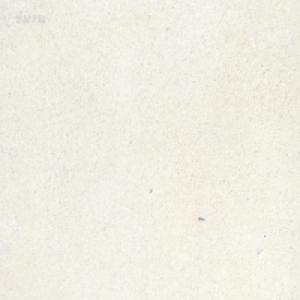Nail: (198, 215, 205, 220)
